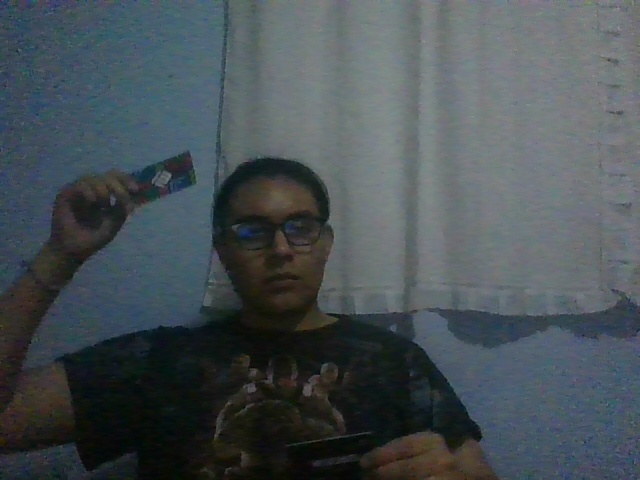tarjeta: (285, 431, 372, 480), (129, 149, 197, 207)
